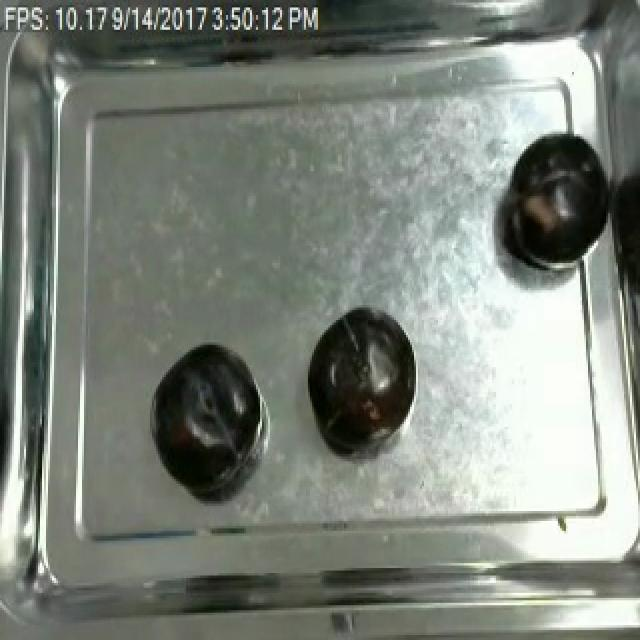Fruit: (304, 303, 420, 452), (148, 338, 260, 492), (500, 127, 612, 280)
